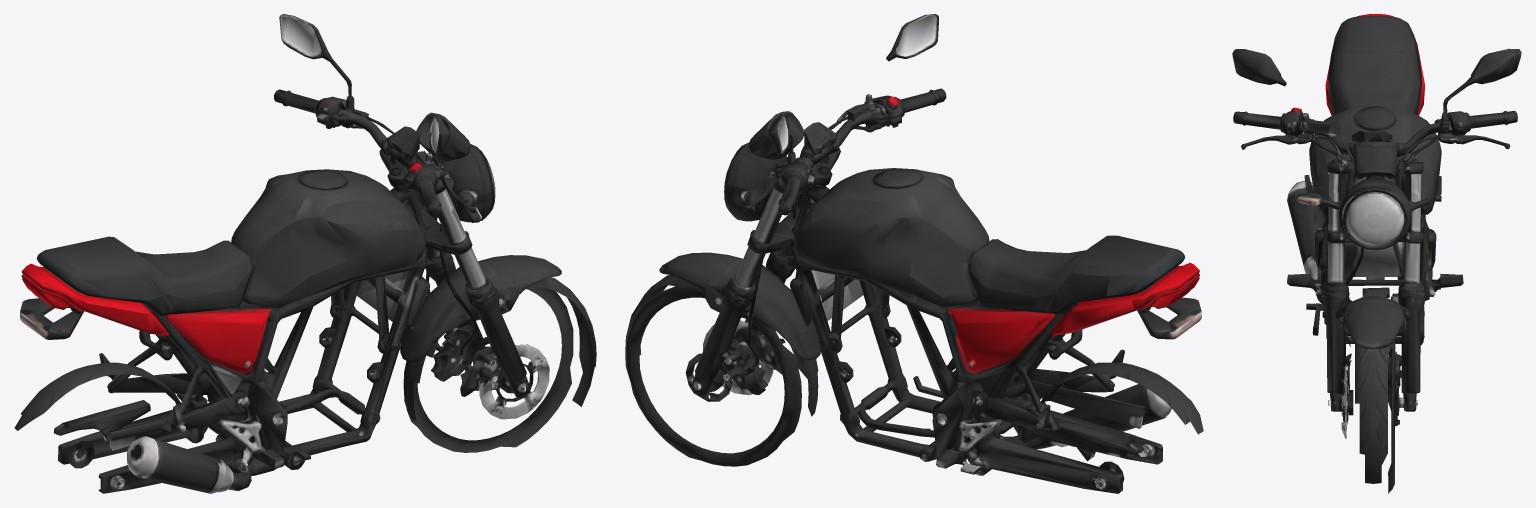
File: shell.glb
The picture shows the model from 3 angles, left to right: view 1: azimuth 30°, elevation 25°; view 2: azimuth 150°, elevation 25°; view 3: azimuth 270°, elevation 25°; orthographic projection. The views are drawn at different scales.
Visible parts, largest first — view 1: frame, tank, fork, seat, handlebar, side_cover_r, tail, swingarm, headlight_cowl; view 2: frame, tank, fork, side_cover_l, handlebar, seat, tail, headlight_cowl, swingarm; view 3: frame, handlebar, seat, fork, headlight_cowl, tank, tail.
Part boxes in pixels (x1,y1,x2,y2): frame: (14, 89, 596, 493); tank: (231, 137, 426, 298); fork: (390, 186, 549, 414); seat: (40, 236, 252, 316); handlebar: (279, 14, 476, 226); side_cover_r: (155, 271, 279, 405); tail: (20, 250, 140, 339); swingarm: (58, 379, 250, 493); headlight_cowl: (419, 143, 495, 246); frame: (625, 88, 1203, 493); tank: (796, 123, 989, 298); fork: (685, 176, 829, 401); side_cover_l: (940, 271, 1069, 406); handlebar: (743, 14, 940, 224); seat: (968, 235, 1177, 309); tail: (1106, 249, 1201, 339); headlight_cowl: (724, 142, 805, 244); swingarm: (972, 388, 1162, 490); frame: (1236, 40, 1516, 493); handlebar: (1232, 48, 1521, 217); seat: (1325, 16, 1421, 113); fork: (1322, 173, 1418, 424); headlight_cowl: (1325, 159, 1410, 283); tank: (1316, 106, 1429, 218); tail: (1327, 14, 1418, 79).
Bounding box in the file's own units: 2.06 × 1.45 × 1.01.
Materials: 1 (1 with a texture image).
